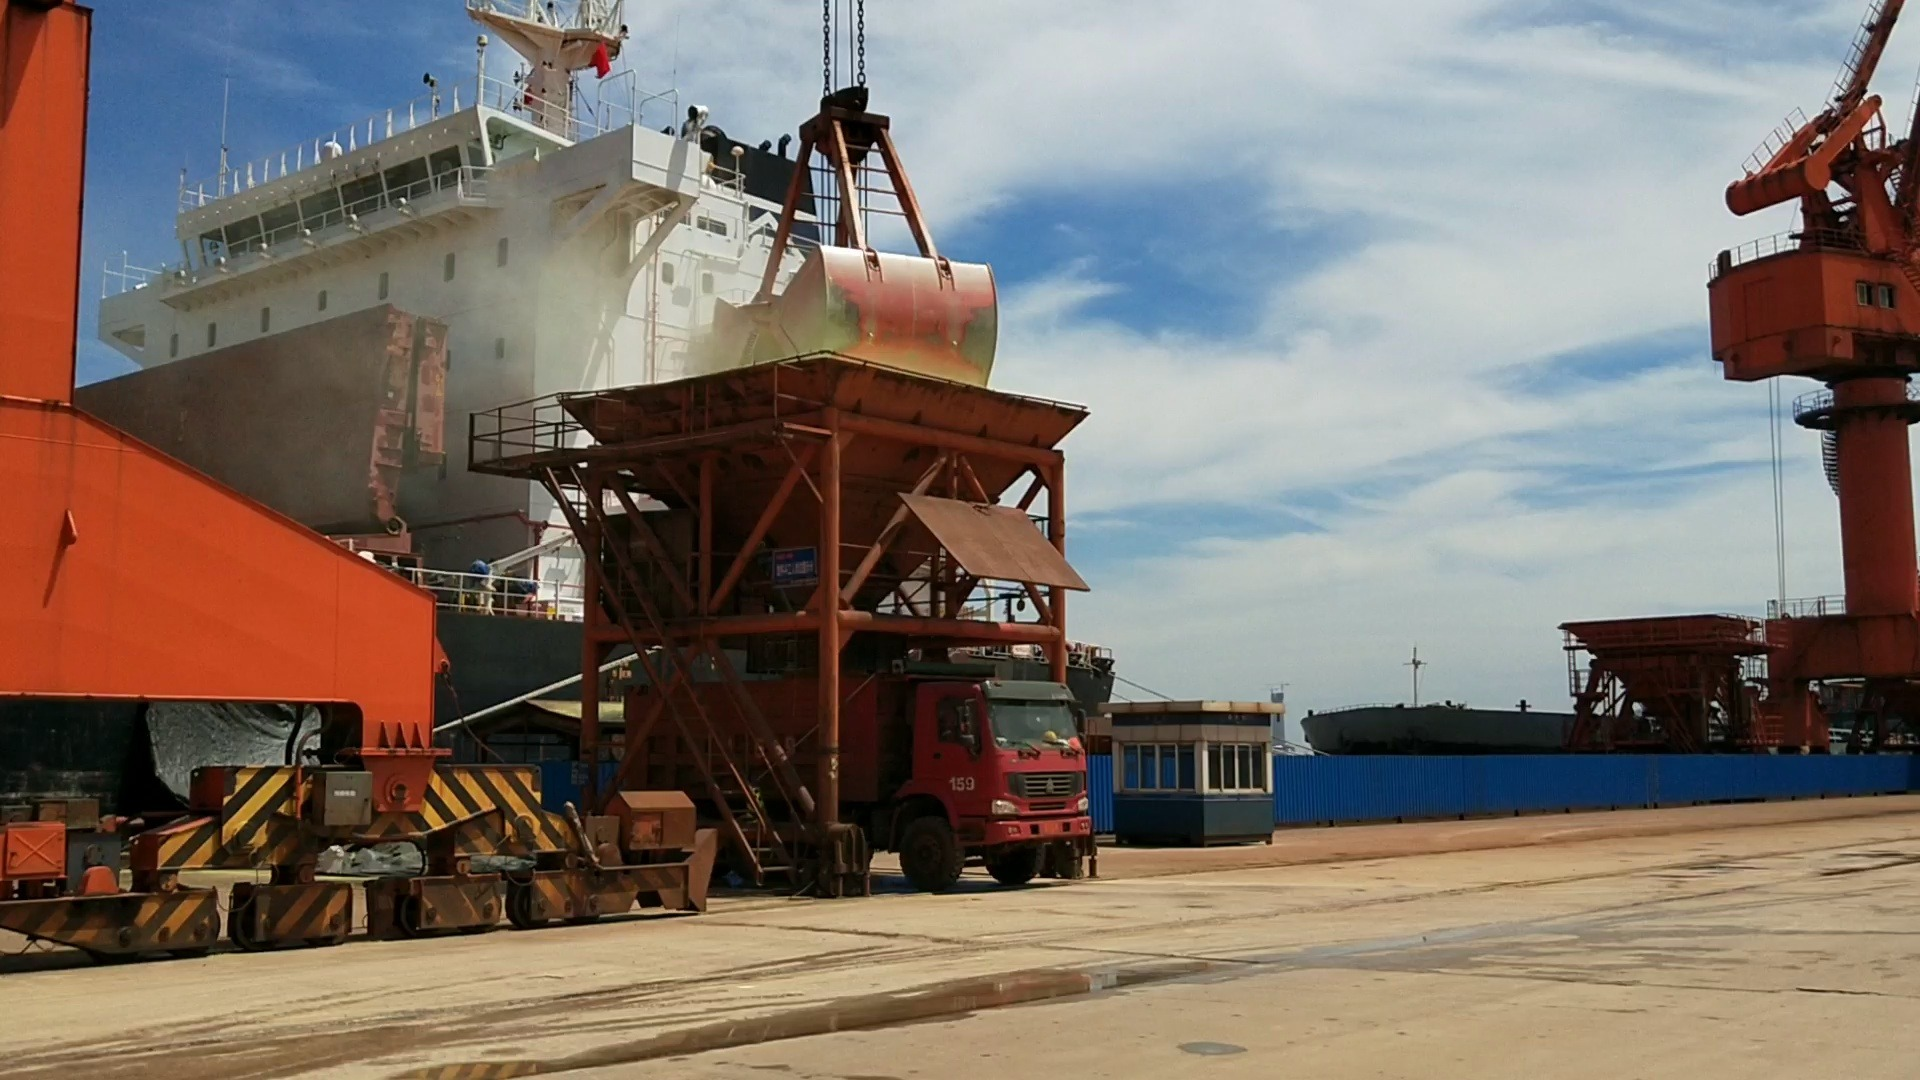dust: (512, 268, 669, 375)
grab: (686, 75, 1006, 404)
truck: (836, 651, 1113, 889)
